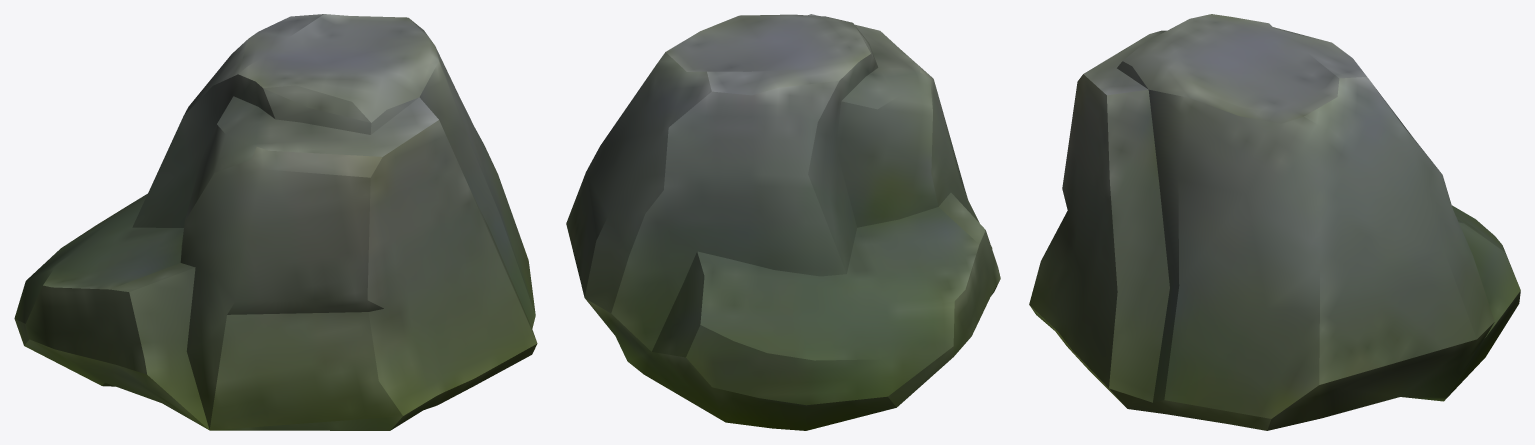
File: Rock_Medium.glb
The picture shows the model from 3 angles, left to right: view 1: azimuth 30°, elevation 25°; view 2: azimuth 150°, elevation 25°; view 3: azimuth 270°, elevation 25°; orthographic projection. The views are drawn at different scales.
Visible parts, largest first — view 1: Rock_Medium_1; view 2: Rock_Medium_1; view 3: Rock_Medium_1.
Part boxes in pixels (<box>): Rock_Medium_1: <box>14,14,537,430</box>; Rock_Medium_1: <box>566,14,1000,430</box>; Rock_Medium_1: <box>1029,14,1520,430</box>.
Size of the model in its own units: 3.23 by 2.26 by 2.99.
1 material, 1 textured.
